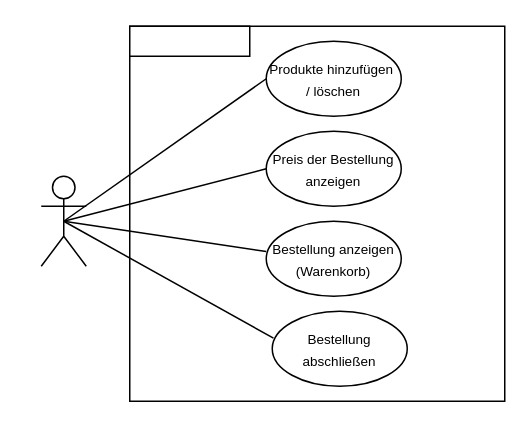
The diagram is 531 pixels wide and 428 high, and some of its shapes have lost their labels. The shapes that lost their labels are listed below. From the top down, each one's centre as x and y in pixels, then its label:
the point at 189,40: Kassensystem
the point at 63,220: Kassierer
